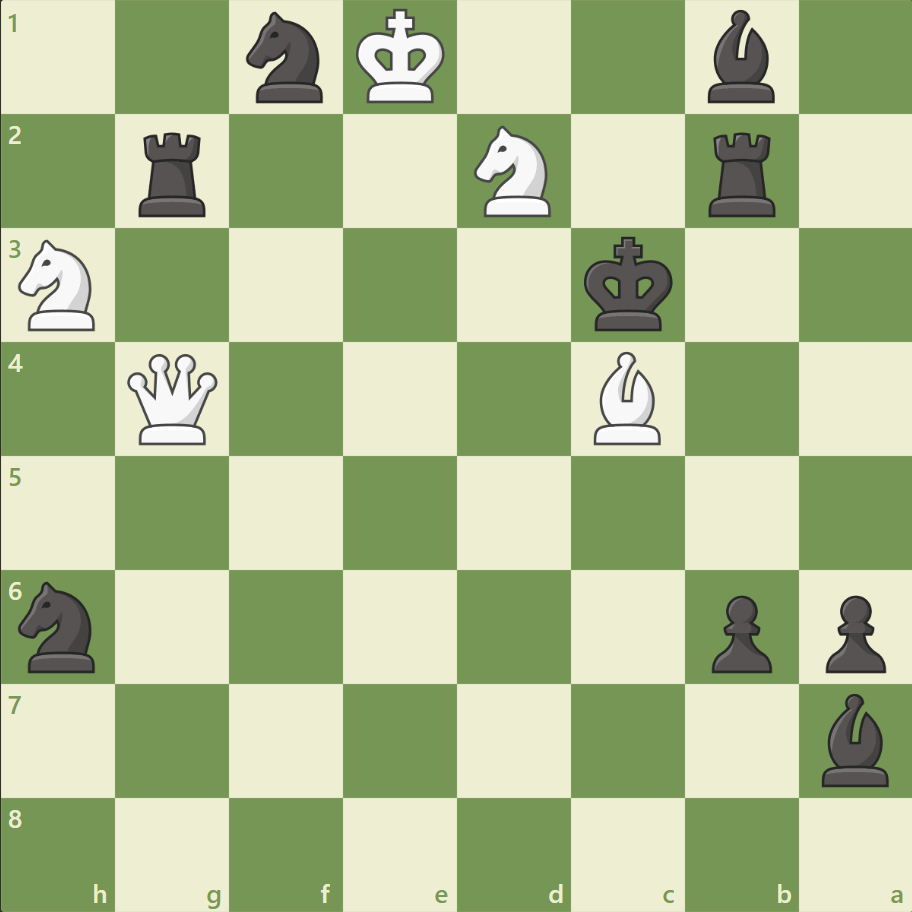B: (585, 347, 669, 449)
K: (351, 4, 451, 112)
N: (11, 234, 108, 337), (465, 121, 562, 223)
Q: (124, 349, 223, 449)
b: (812, 687, 896, 790), (698, 6, 782, 109)
k: (579, 231, 679, 339)
n: (238, 7, 335, 110), (11, 575, 108, 677)
p: (701, 586, 776, 677), (815, 586, 889, 677)
r: (700, 125, 783, 222), (133, 125, 215, 222)
